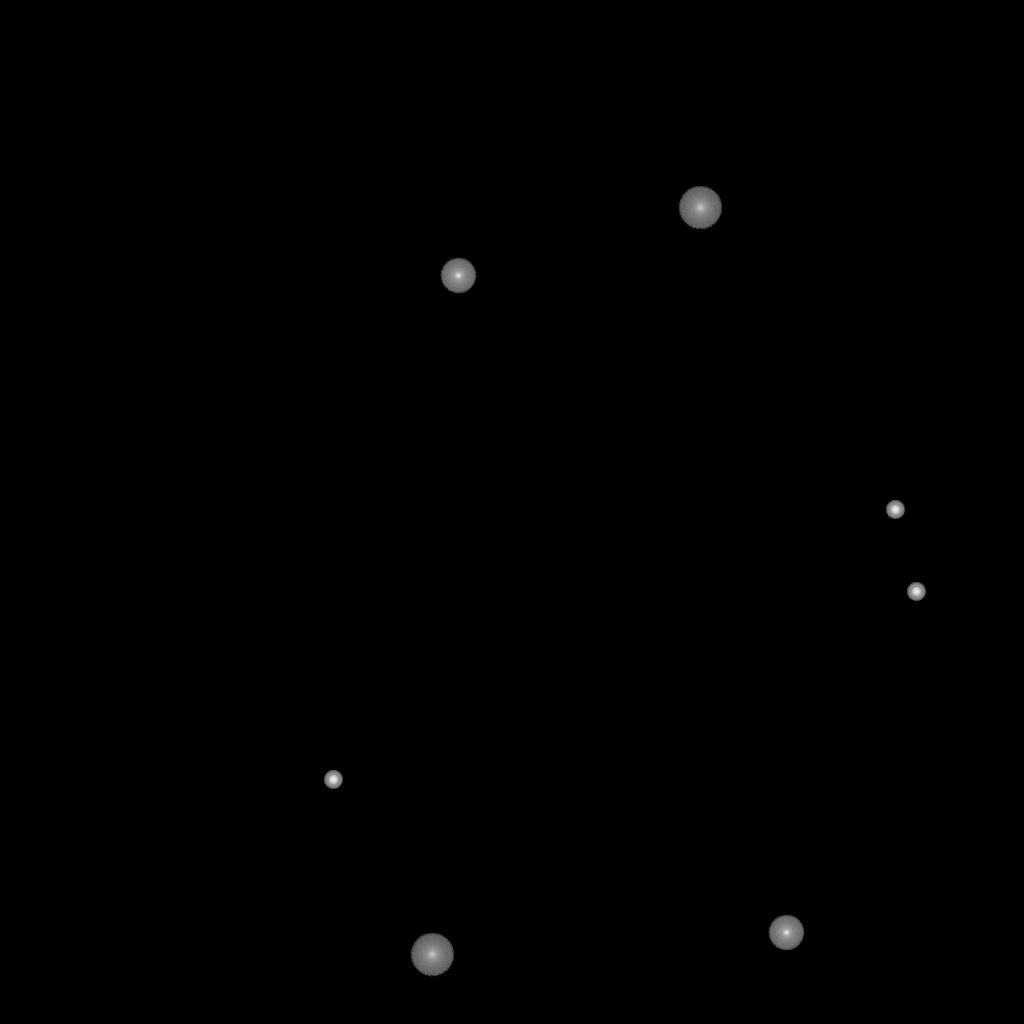depth:-20: (324, 771, 342, 789), (907, 583, 925, 601), (886, 501, 904, 519)
depth:0: (440, 258, 476, 294), (768, 915, 804, 951)
depth:10: (678, 186, 722, 230), (410, 933, 454, 977)
